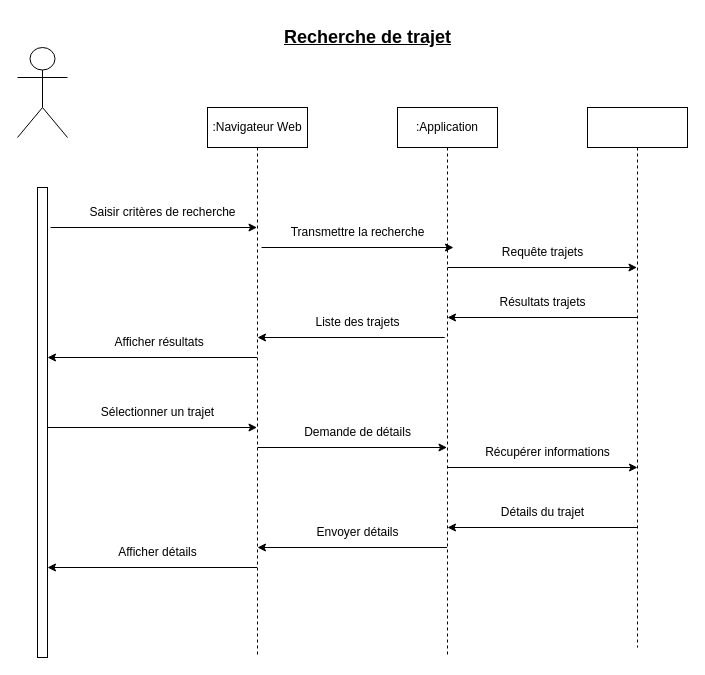
Some shapes in this 705 by 675 pixel diagram are drawn without their labels. The shapes that lost their labels are listed below. From the top down, each one's box as (x1, y1, x2, y2) in pixels, then its label:
(16, 46, 68, 138): Visiteur
(586, 106, 688, 648): :BDD
